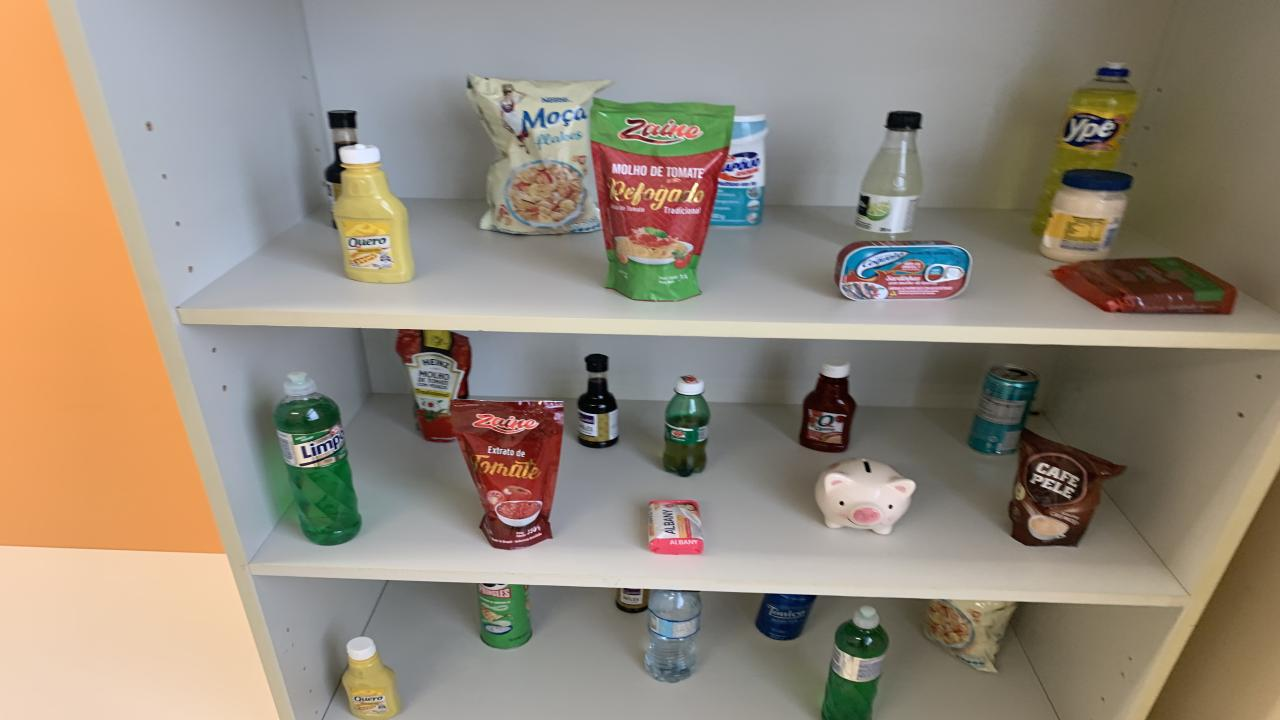Cleaner-Cleanup_Items: (710, 114, 768, 227)
Coffee-Pantry_Items: (1008, 429, 1125, 546)
Detergent-Cleanup_Items: (1030, 62, 1138, 234), (275, 373, 360, 546), (822, 606, 890, 720)
English_Sauce-Pantry_Items: (578, 354, 618, 448), (325, 111, 358, 208), (615, 589, 650, 613)
Flakes-Snacks: (468, 75, 610, 234), (922, 600, 1018, 673)
Guarana-Drinks: (662, 375, 710, 476)
Guava-Snacks: (1052, 257, 1238, 313)
Ketchup-Pantry_Items: (800, 360, 855, 452)
Mayonnaise-Pantry_Items: (1040, 169, 1132, 262)
Mustard-Pantry_Items: (332, 144, 415, 283), (342, 636, 402, 718)
Pig_Safe-Miscellaneous: (815, 459, 915, 534)
Pringles-Snacks: (478, 583, 532, 649)
Soap-Cleanup_Items: (648, 501, 705, 555)
Soda-Drinks: (855, 111, 922, 240)
Tea-Drinks: (968, 366, 1038, 456)
Tomato_Sauce-Pantry_Items: (590, 99, 732, 300), (450, 399, 565, 549), (395, 330, 470, 442)
Tonic-Drinks: (755, 594, 815, 639)
Tuna_Can-Pantry_Items: (835, 242, 972, 300)
Water_Bottle-Drinks: (645, 589, 702, 682)
